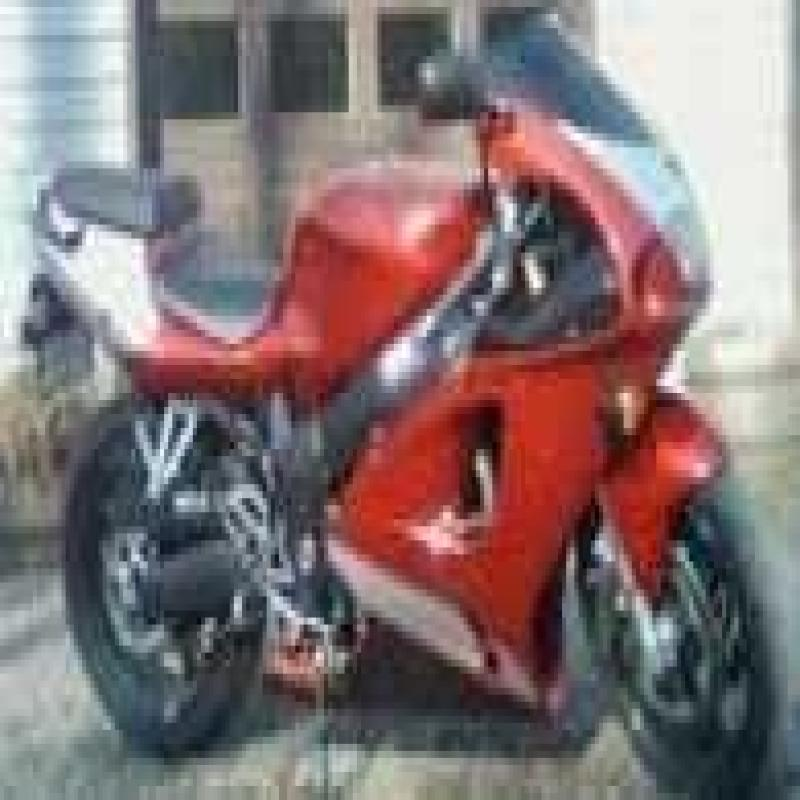bike: (29, 2, 790, 800)
